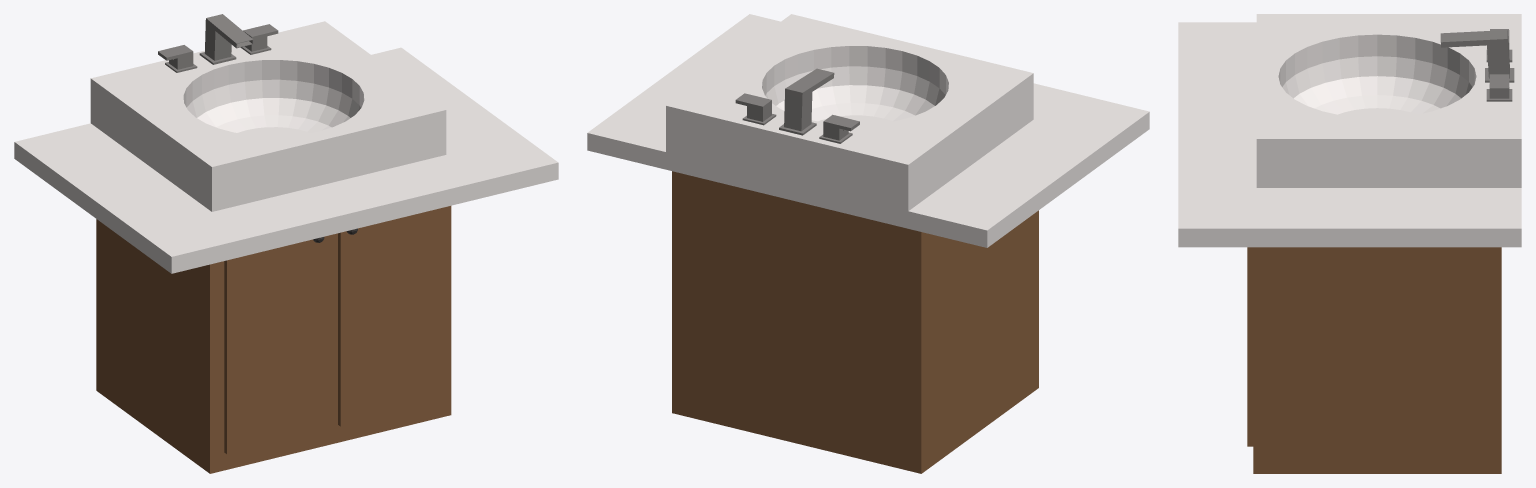
Rendered from Shower Table_05.fbx.
The picture shows the model from 3 angles, left to right: view 1: azimuth 30°, elevation 25°; view 2: azimuth 150°, elevation 25°; view 3: azimuth 270°, elevation 25°; orthographic projection. The views are drawn at different scales.
Parts seen in each view (by area): view 1: Shower Table_05; view 2: Shower Table_05; view 3: Shower Table_05.
Part boxes in pixels (box(x1,y1,x2,y2)): Shower Table_05: box(14, 14, 558, 473); Shower Table_05: box(587, 14, 1149, 473); Shower Table_05: box(1178, 14, 1521, 473).
Bounding box in the file's own units: 105 × 88.95 × 73.81.
